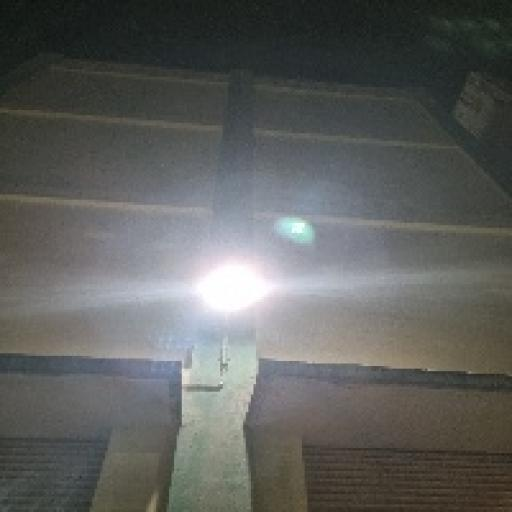Working: (193, 252, 282, 327)
